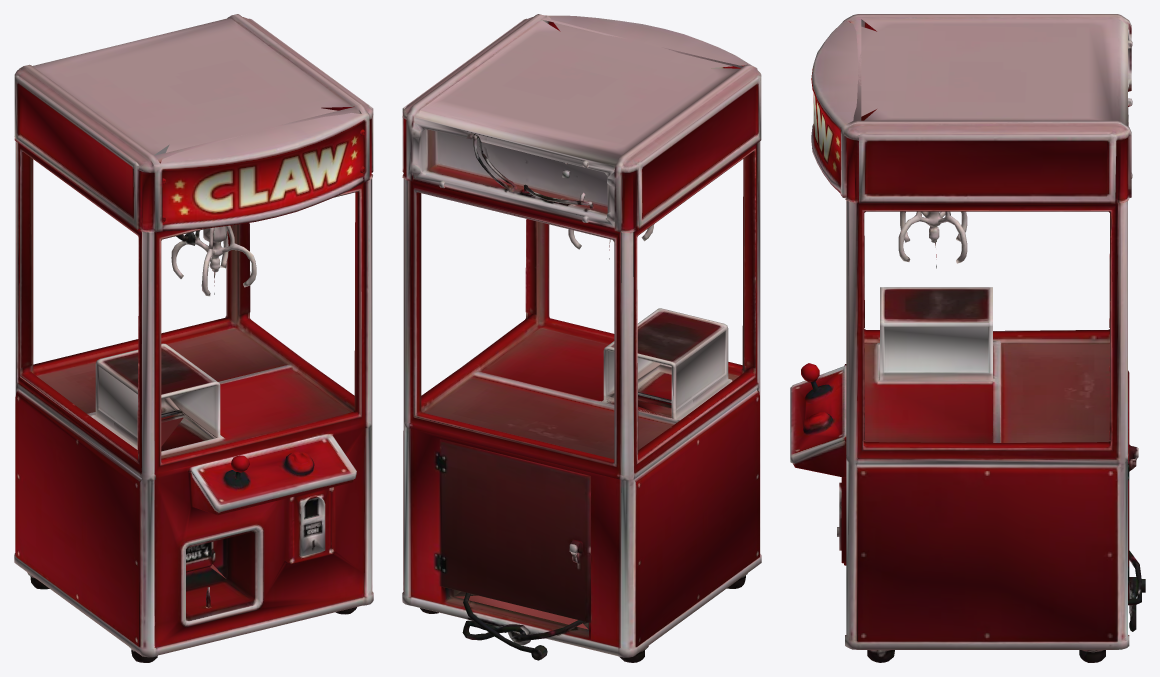
The model's file is claw-machine.min.glb.
The picture shows the model from 3 angles, left to right: view 1: azimuth 30°, elevation 25°; view 2: azimuth 150°, elevation 25°; view 3: azimuth 270°, elevation 25°; orthographic projection. The views are drawn at different scales.
Parts seen in each view (by area): view 1: tripo_node_bce61bfe-72ab-438e-9c76-f0304da93531; view 2: tripo_node_bce61bfe-72ab-438e-9c76-f0304da93531; view 3: tripo_node_bce61bfe-72ab-438e-9c76-f0304da93531.
Boxes of the visible parts, x1=… form: tripo_node_bce61bfe-72ab-438e-9c76-f0304da93531: x1=14, y1=14, x2=373, y2=662; tripo_node_bce61bfe-72ab-438e-9c76-f0304da93531: x1=402, y1=14, x2=761, y2=662; tripo_node_bce61bfe-72ab-438e-9c76-f0304da93531: x1=790, y1=14, x2=1145, y2=662.
Bounding box in the file's own units: 0.4731 × 0.9789 × 0.5843.
Materials: 1 (1 with a texture image).
